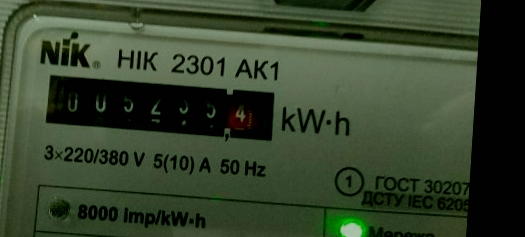0: (63, 87, 81, 114), (92, 87, 108, 113)
2: (147, 89, 163, 115)
3: (175, 89, 191, 115)
4: (232, 97, 248, 124)
5: (202, 92, 218, 120), (119, 88, 136, 114)
screen: (35, 64, 286, 149)
